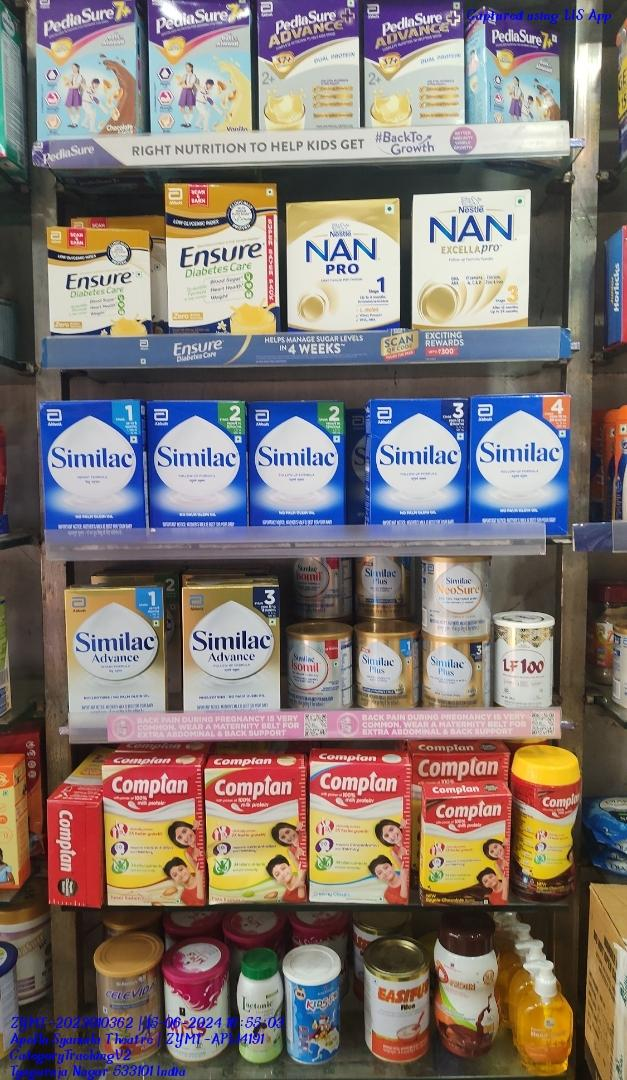COMPLAN_CHOCOLATE_200_GMS_PACK: (423, 794, 509, 901)
COMPLAN_CHOCOLATE_500_GMS_JAR: (516, 756, 585, 902)
COMPLAN_CREAMY_CLASSIC_500_G_PACK: (310, 764, 408, 903)
COMPLAN_PISTA_BADAM_500_GMS_PACK: (205, 765, 305, 903)
PEDIASURE_7_PLUS_CHOCOLATE_400_G_PACK: (37, 0, 135, 135), (485, 16, 561, 121)
